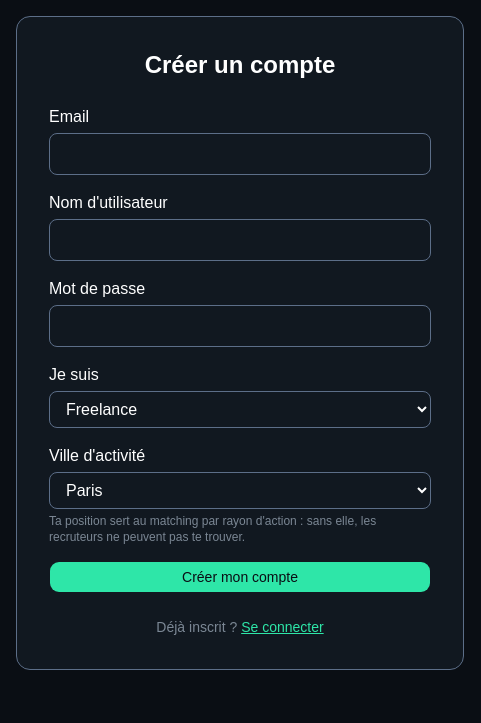
Écran d'inscription (SH-20) › refuse un mot de passe trop court sans appeler le backend
Type "nouvelle@skillhunt.io" into the field labelled "Email" at coordinates (240, 154), box [49,133,431,175]
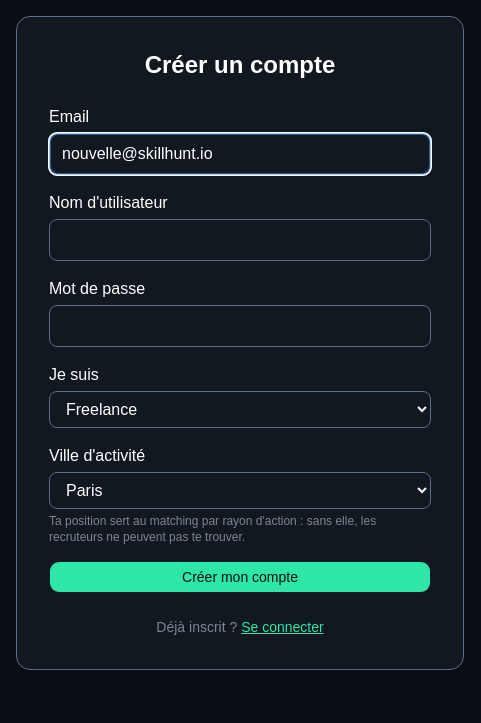
Type "nouvelle-pilote" into the field labelled "Nom d'utilisateur" at coordinates (240, 240), box [49,219,431,261]
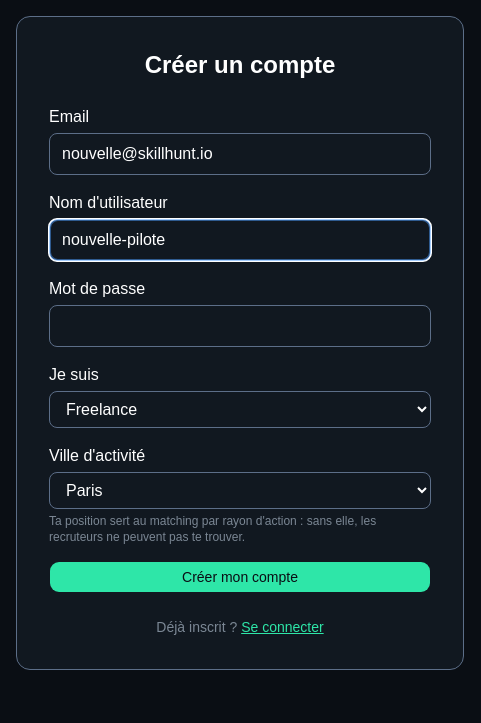
Type "court" into the password field labelled "Mot de passe" at coordinates (240, 326), box [49,305,431,347]
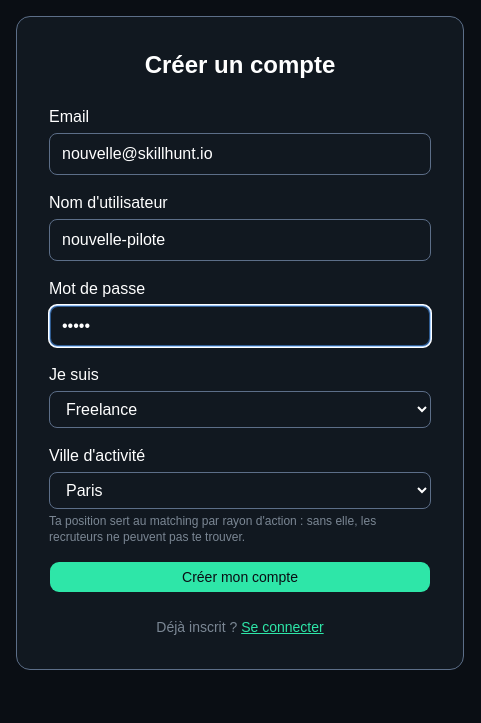
Click the button "Créer mon compte" at coordinates (240, 577), box [49,561,431,593]
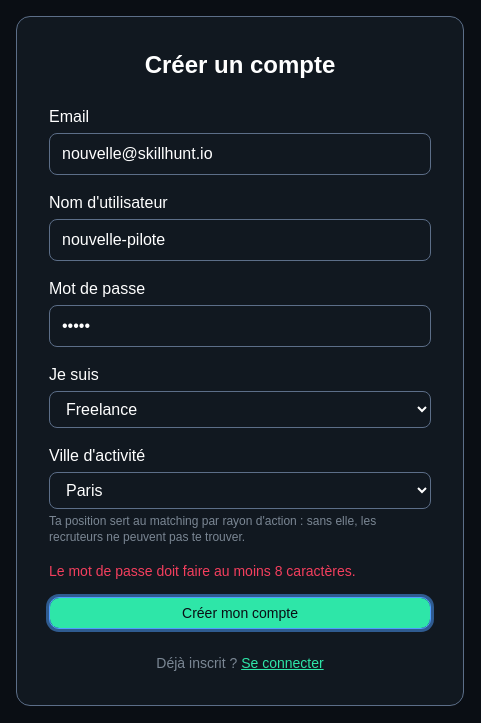
Check: the message shows "au moins 8 caractères", box [49,563,356,579]
